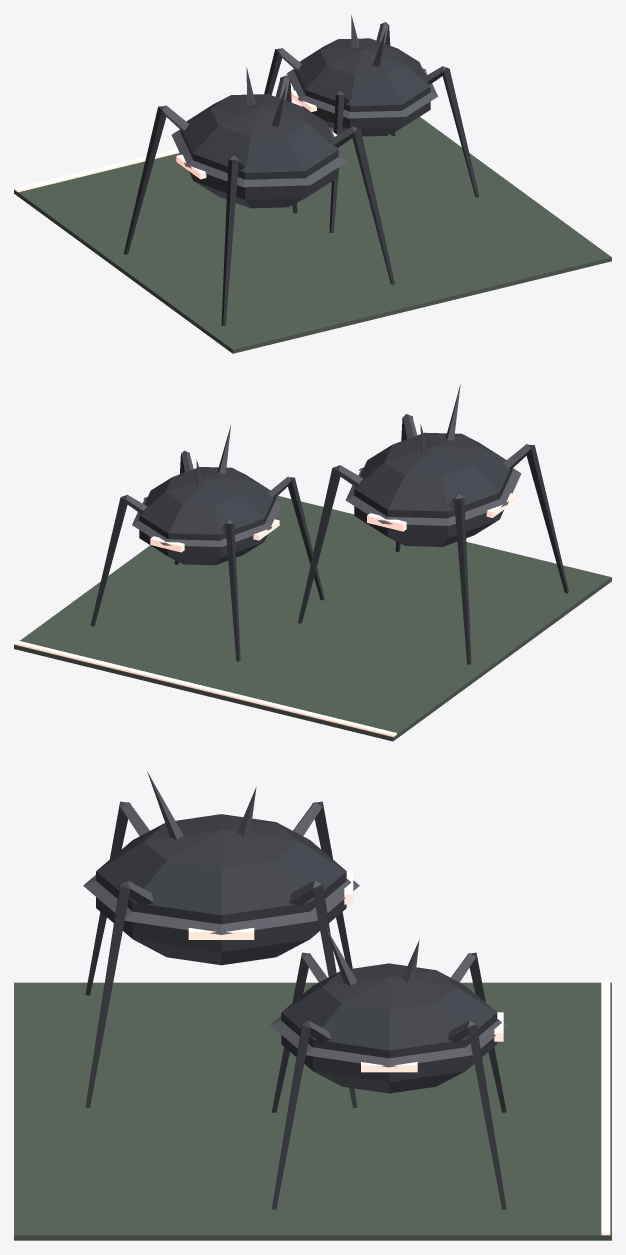
The model's file is zone_low_5.glb.
3 renders of one model, top to bottom at view 1: azimuth 30°, elevation 25°; view 2: azimuth 150°, elevation 25°; view 3: azimuth 270°, elevation 25°, orthographic. The views are drawn at different scales.
Visible parts, largest first — view 1: zone_low_5, detail; view 2: zone_low_5, detail; view 3: zone_low_5, detail.
Boxes of the visible parts, <box> form: zone_low_5: <box>14,22,611,353</box>; detail: <box>14,15,429,192</box>; zone_low_5: <box>14,414,611,741</box>; detail: <box>14,384,516,736</box>; zone_low_5: <box>14,801,611,1240</box>; detail: <box>147,771,610,1235</box>.
Size of the model in its own units: 19.6 by 10.35 by 19.6.
